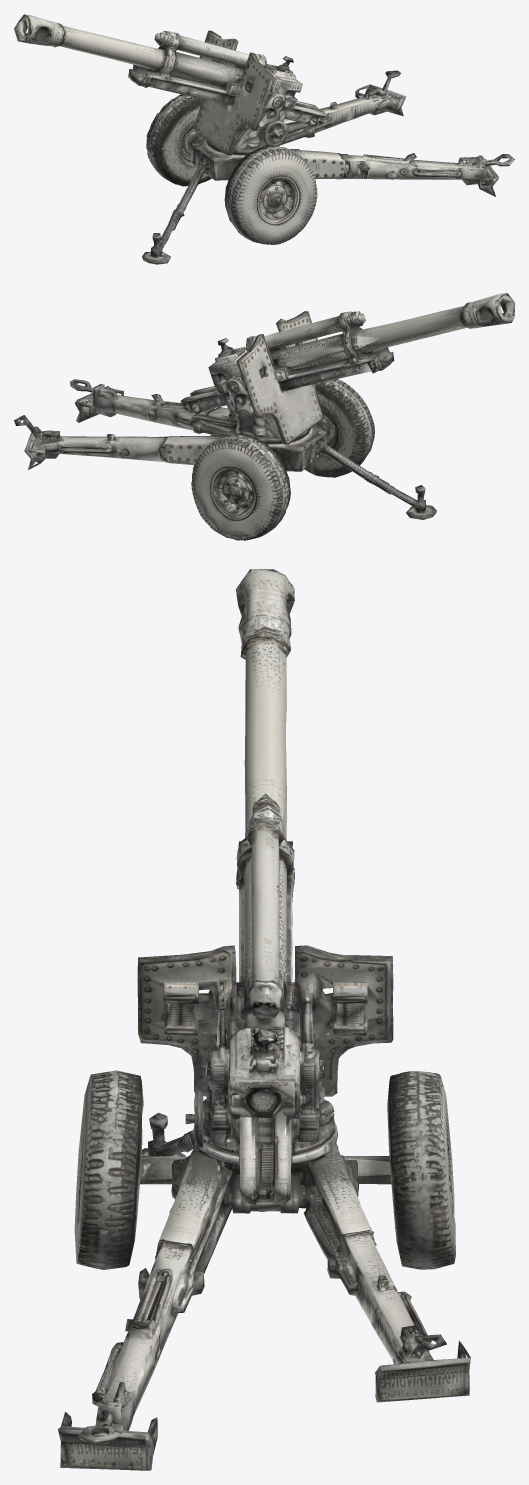
File: 高射炮.glb
3 views of the same model, one above another, from view 1: azimuth 30°, elevation 25°; view 2: azimuth 150°, elevation 25°; view 3: azimuth 270°, elevation 25° (orthographic). The views are drawn at different scales.
Visible parts, largest first — view 1: tripo_part_0, tripo_part_5, tripo_part_10, tripo_part_2, tripo_part_8, tripo_part_3, tripo_part_1, tripo_part_6, tripo_part_16, tripo_part_7; view 2: tripo_part_0, tripo_part_3, tripo_part_1, tripo_part_8, tripo_part_5, tripo_part_10, tripo_part_2, tripo_part_6, tripo_part_4, tripo_part_12, tripo_part_7; view 3: tripo_part_0, tripo_part_1, tripo_part_10, tripo_part_2, tripo_part_5, tripo_part_3, tripo_part_8, tripo_part_7, tripo_part_4, tripo_part_11, tripo_part_6.
Boxes of the visible parts, x1,y1,x2,y2 form: tripo_part_0: (128, 30, 327, 155); tripo_part_5: (224, 145, 317, 244); tripo_part_10: (290, 149, 485, 185); tripo_part_2: (191, 56, 302, 180); tripo_part_8: (14, 14, 165, 72); tripo_part_3: (146, 94, 211, 186); tripo_part_1: (275, 70, 406, 144); tripo_part_6: (142, 156, 210, 264); tripo_part_16: (262, 181, 288, 215); tripo_part_7: (465, 159, 498, 196); tripo_part_0: (181, 311, 394, 444); tripo_part_3: (191, 433, 290, 540); tripo_part_1: (14, 415, 226, 470); tripo_part_8: (354, 293, 514, 354); tripo_part_5: (304, 379, 374, 477); tripo_part_10: (92, 384, 237, 435); tripo_part_2: (208, 338, 326, 471); tripo_part_6: (315, 438, 436, 519); tripo_part_4: (226, 376, 280, 439); tripo_part_12: (219, 472, 252, 506); tripo_part_7: (75, 386, 123, 422); tripo_part_0: (137, 793, 393, 1204); tripo_part_1: (300, 1143, 470, 1402); tripo_part_10: (92, 1150, 232, 1430); tripo_part_2: (141, 1026, 390, 1219); tripo_part_5: (74, 1070, 143, 1269); tripo_part_3: (387, 1071, 455, 1269); tripo_part_8: (236, 569, 294, 837); tripo_part_7: (58, 1412, 157, 1470); tripo_part_4: (298, 1042, 334, 1142); tripo_part_11: (223, 1174, 305, 1213); tripo_part_6: (142, 1112, 194, 1156).
Size of the model in its own units: 1 by 0.5246 by 0.3942.
Materials: 18 (18 with a texture image).
